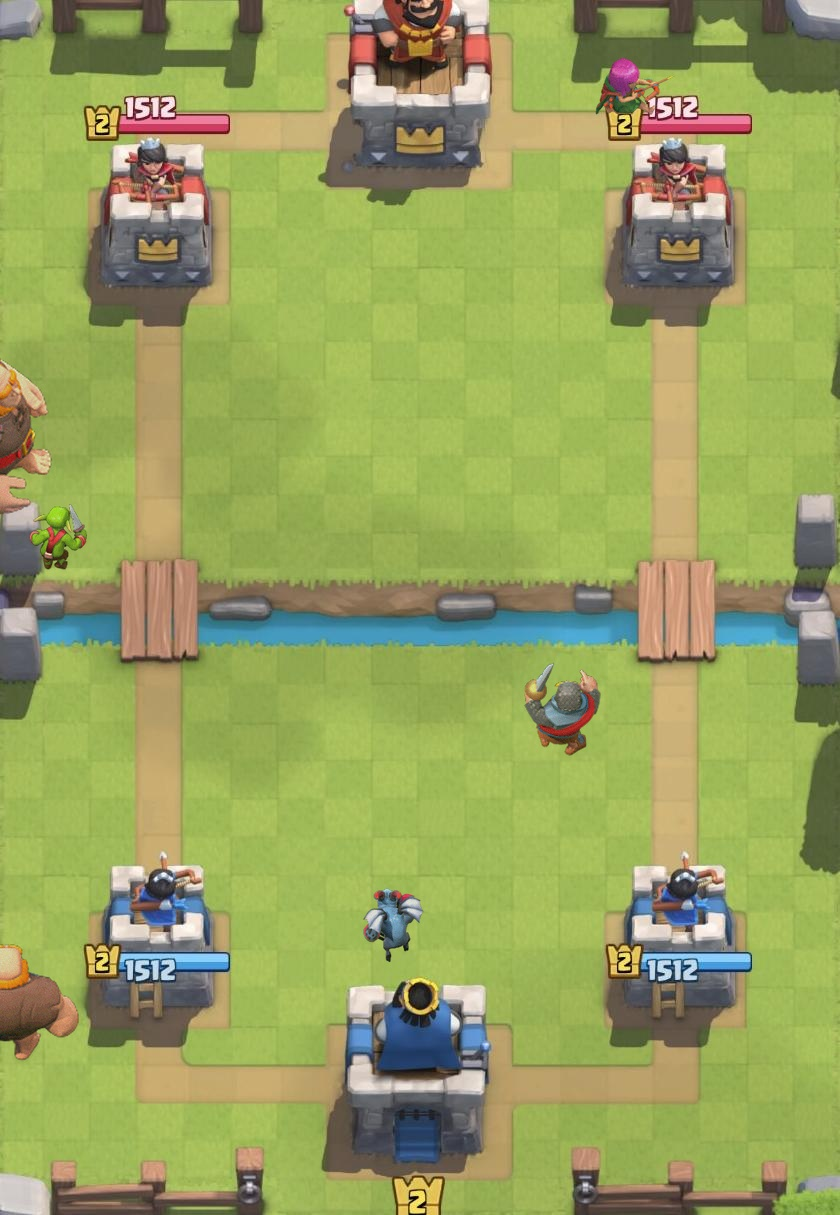archer_enemy: (595, 58, 674, 115)
giant_ally: (0, 944, 79, 1063)
giant_enemy: (0, 358, 53, 515)
goblin_enemy: (29, 504, 88, 571)
knight_enemy: (524, 662, 601, 756)
minion_enemy: (363, 888, 424, 963)
